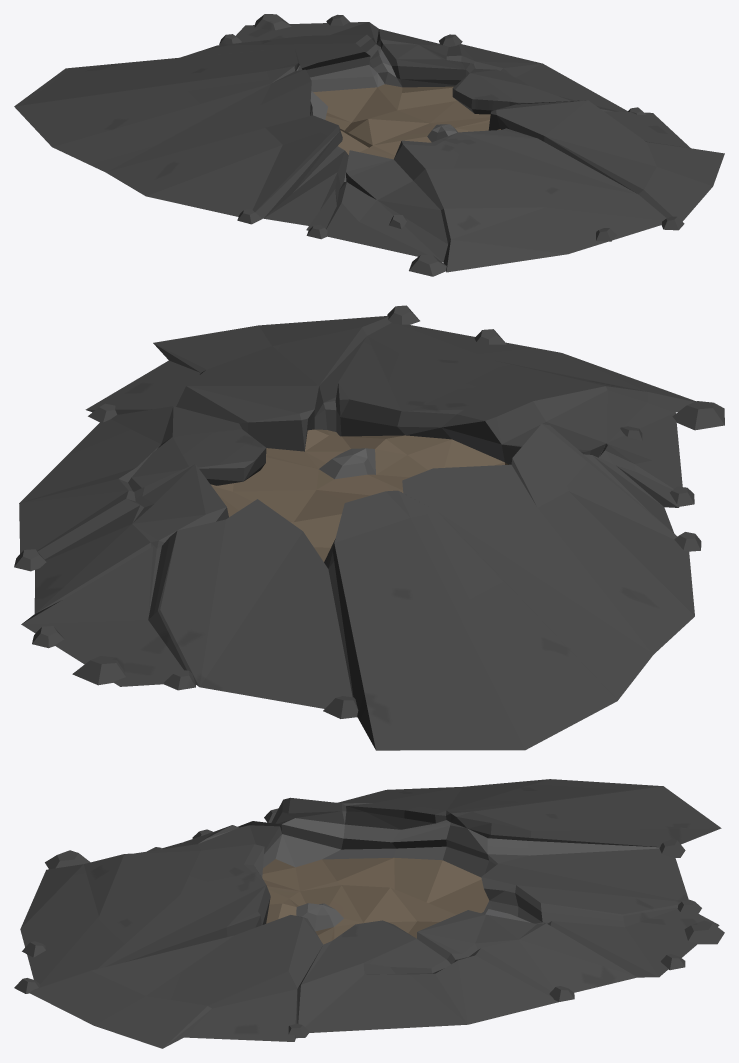
The model's file is SM_Env_RoadPiece_Damaged_01.obj.
3 renders of one model, top to bottom at view 1: azimuth 30°, elevation 25°; view 2: azimuth 150°, elevation 25°; view 3: azimuth 270°, elevation 25°, orthographic. The views are drawn at different scales.
Visible parts, largest first — view 1: SM_Env_RoadPiece_Damaged_01_0; view 2: SM_Env_RoadPiece_Damaged_01_0; view 3: SM_Env_RoadPiece_Damaged_01_0.
Boxes of the visible parts, x1,y1,x2,y2 form: SM_Env_RoadPiece_Damaged_01_0: (14,14,724,276); SM_Env_RoadPiece_Damaged_01_0: (14,305,724,750); SM_Env_RoadPiece_Damaged_01_0: (14,779,724,1048).
Bounding box in the file's own units: 6.63 × 0.863 × 7.38.
Materials: 1 (1 with a texture image).
